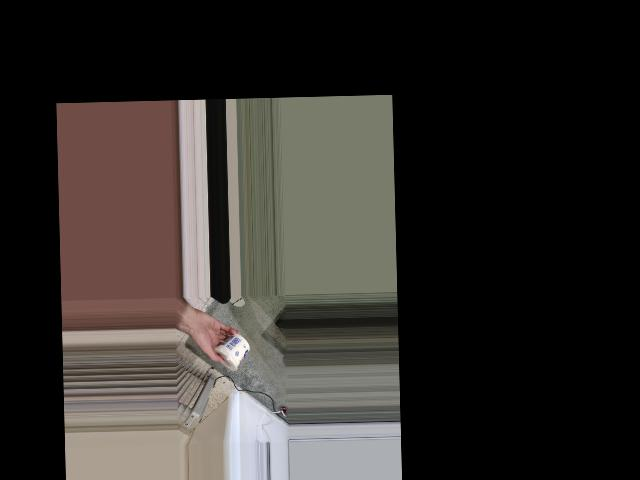cotage: (212, 331, 250, 372)
